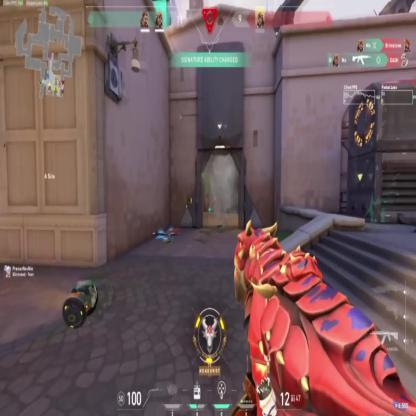enemy: (210, 188, 218, 214)
